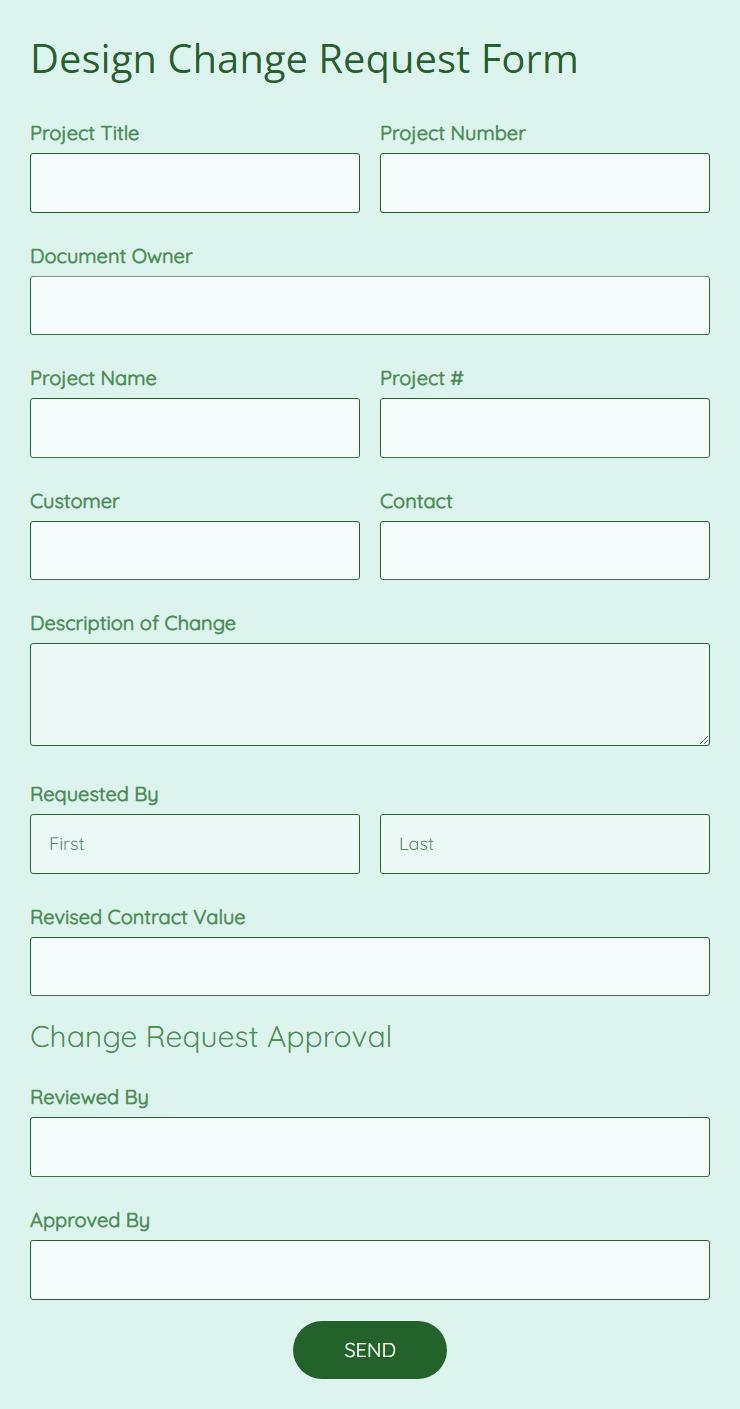button: (292, 1317, 450, 1383)
input: (30, 644, 711, 746), (31, 277, 710, 336), (32, 1118, 710, 1177), (31, 1242, 712, 1299), (31, 938, 710, 995), (32, 814, 362, 876), (381, 154, 711, 214), (382, 815, 710, 875), (31, 155, 362, 214), (31, 522, 361, 581), (381, 399, 710, 458), (31, 400, 361, 458), (382, 522, 710, 580)
label: (24, 37, 592, 87), (24, 1016, 409, 1073), (19, 899, 259, 940), (24, 606, 250, 644), (16, 239, 209, 273), (372, 112, 532, 152), (24, 357, 171, 398), (21, 1199, 159, 1238), (14, 112, 155, 148), (29, 779, 169, 813), (369, 357, 473, 396), (372, 481, 459, 523), (27, 489, 127, 521), (27, 1087, 150, 1113)
